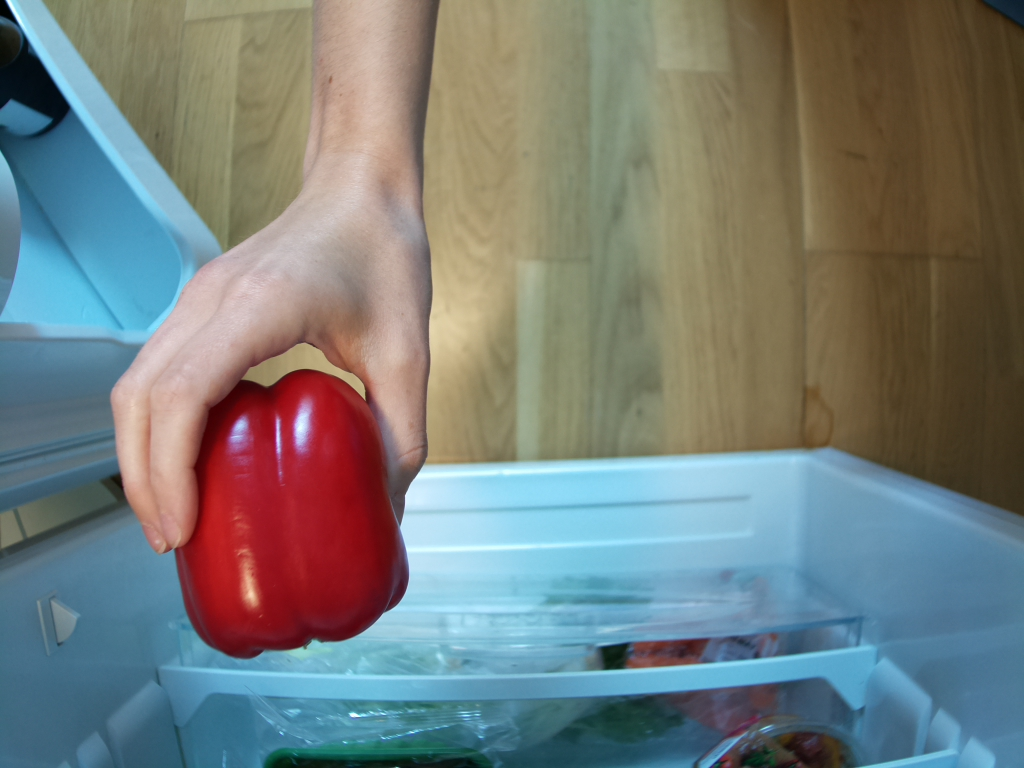pepper: (175, 366, 409, 661)
